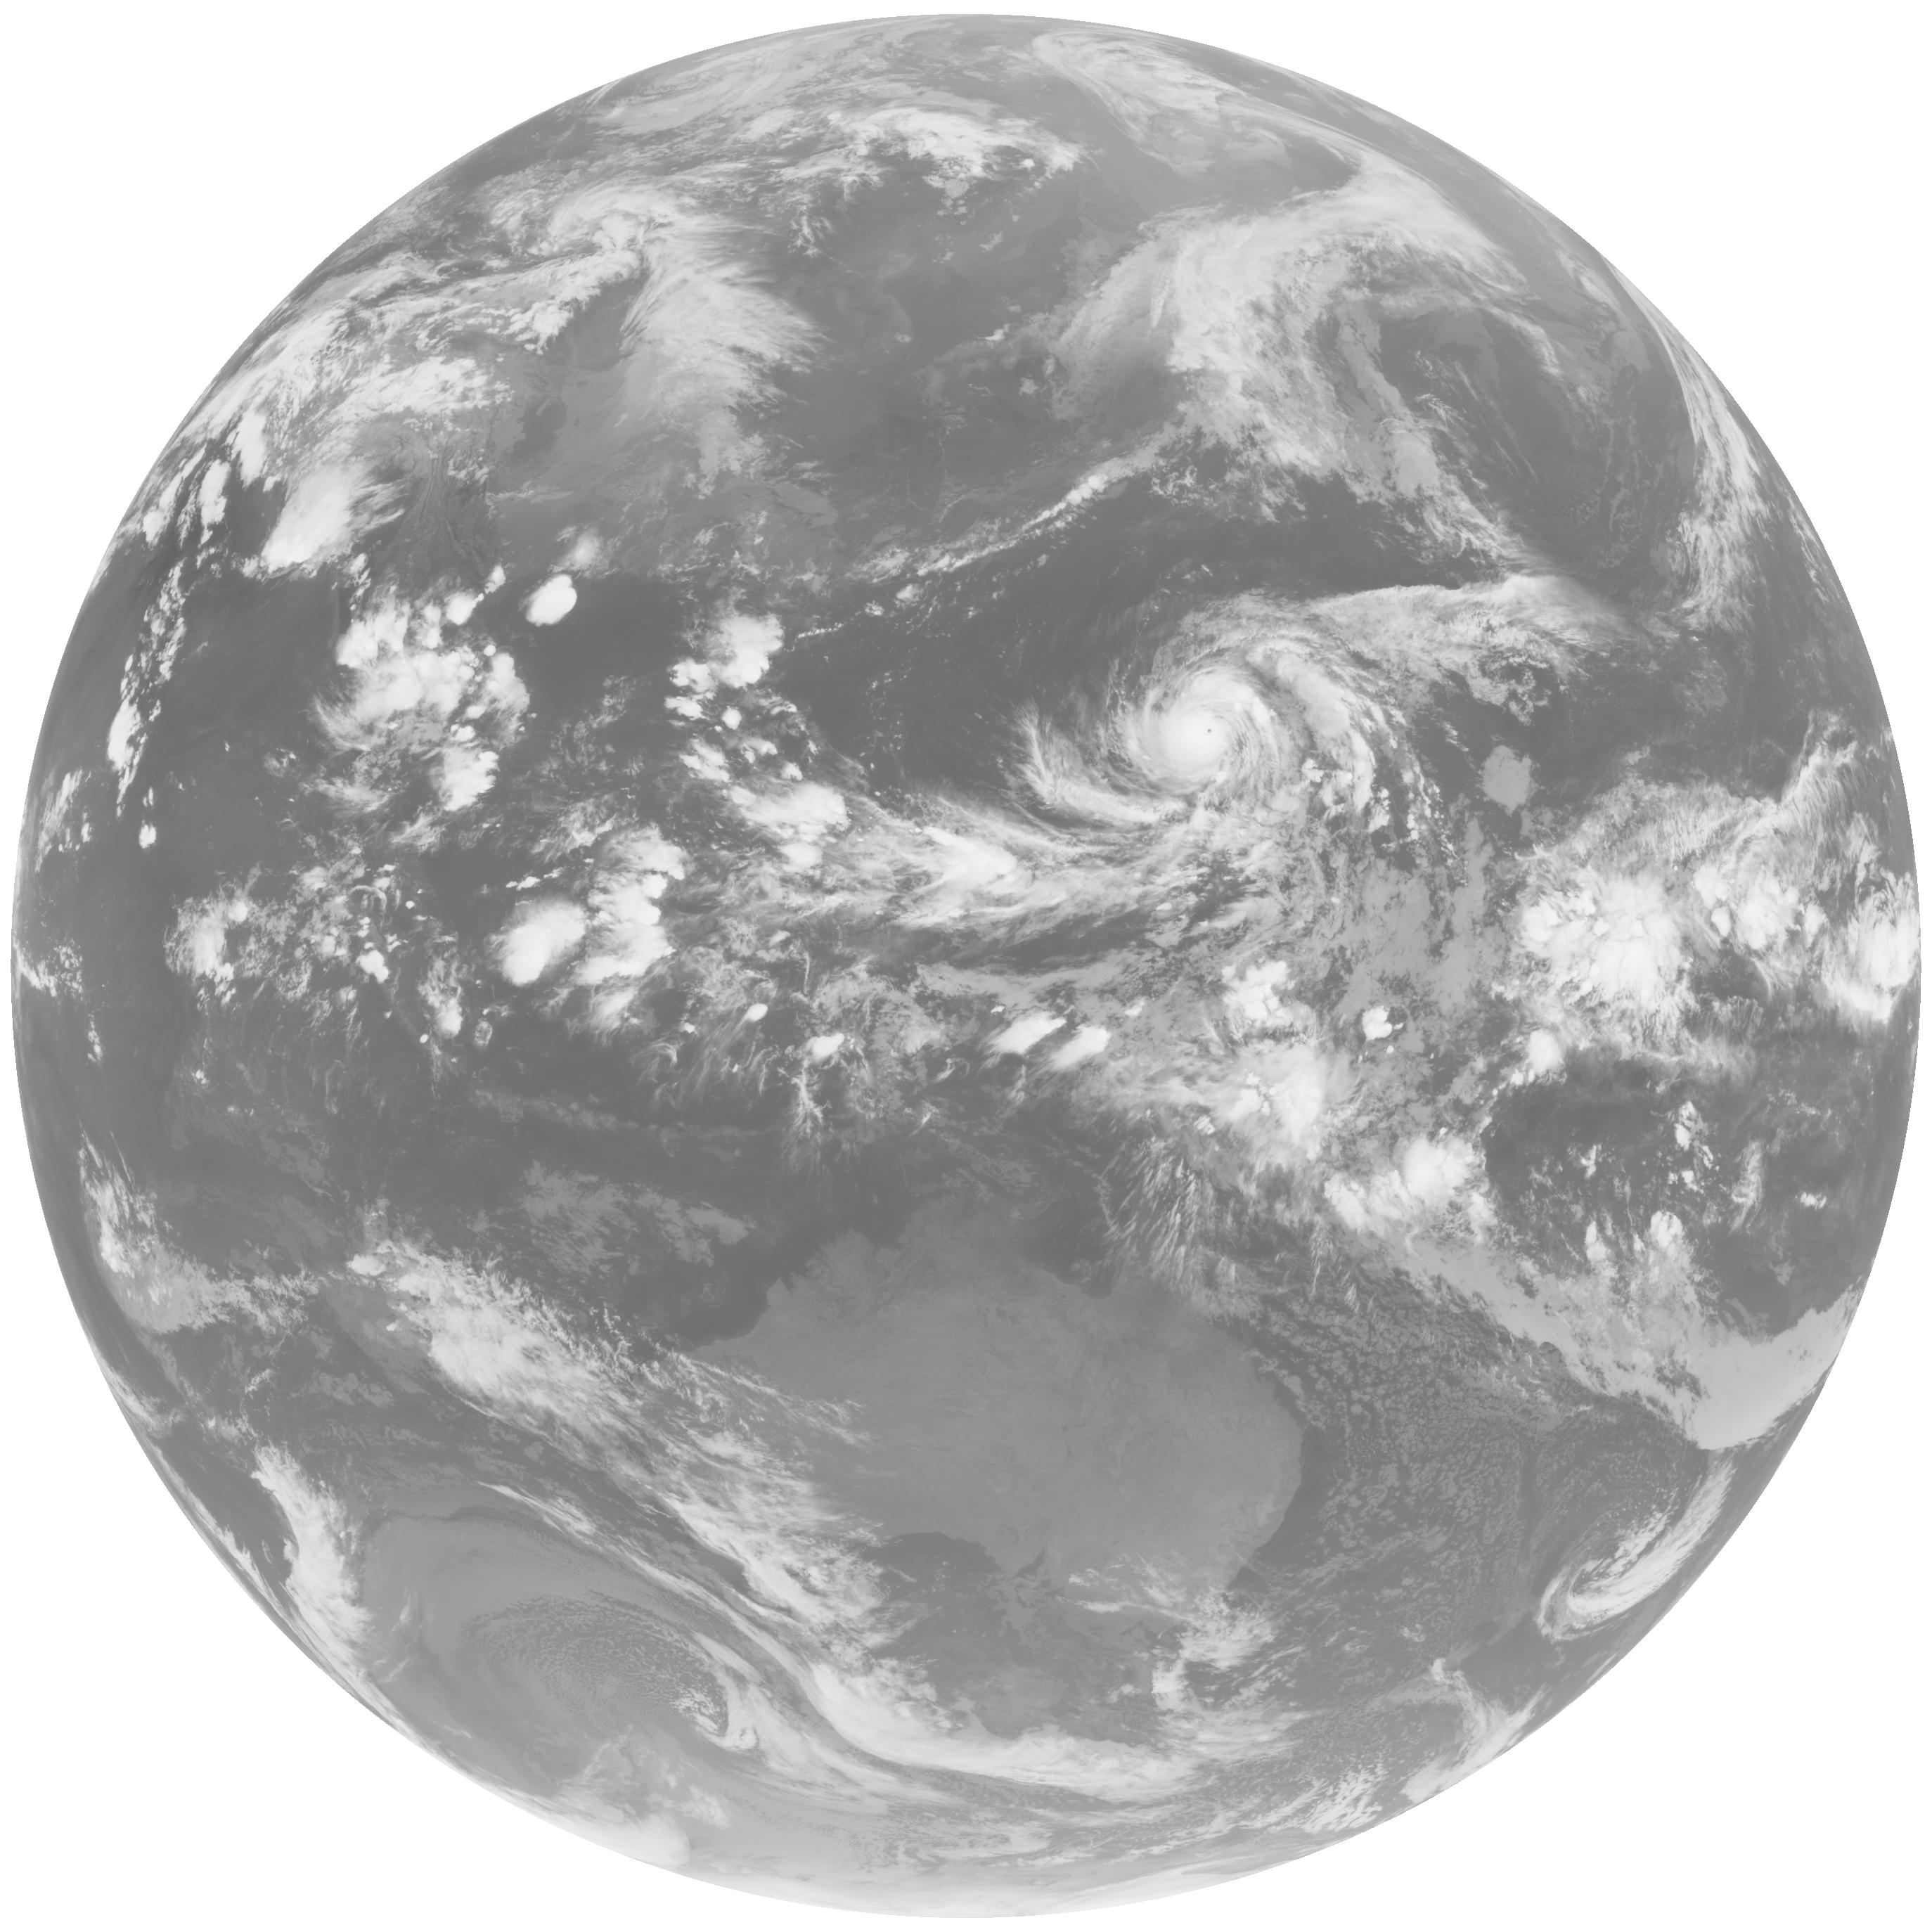typhoon: (959, 568, 1511, 897)
